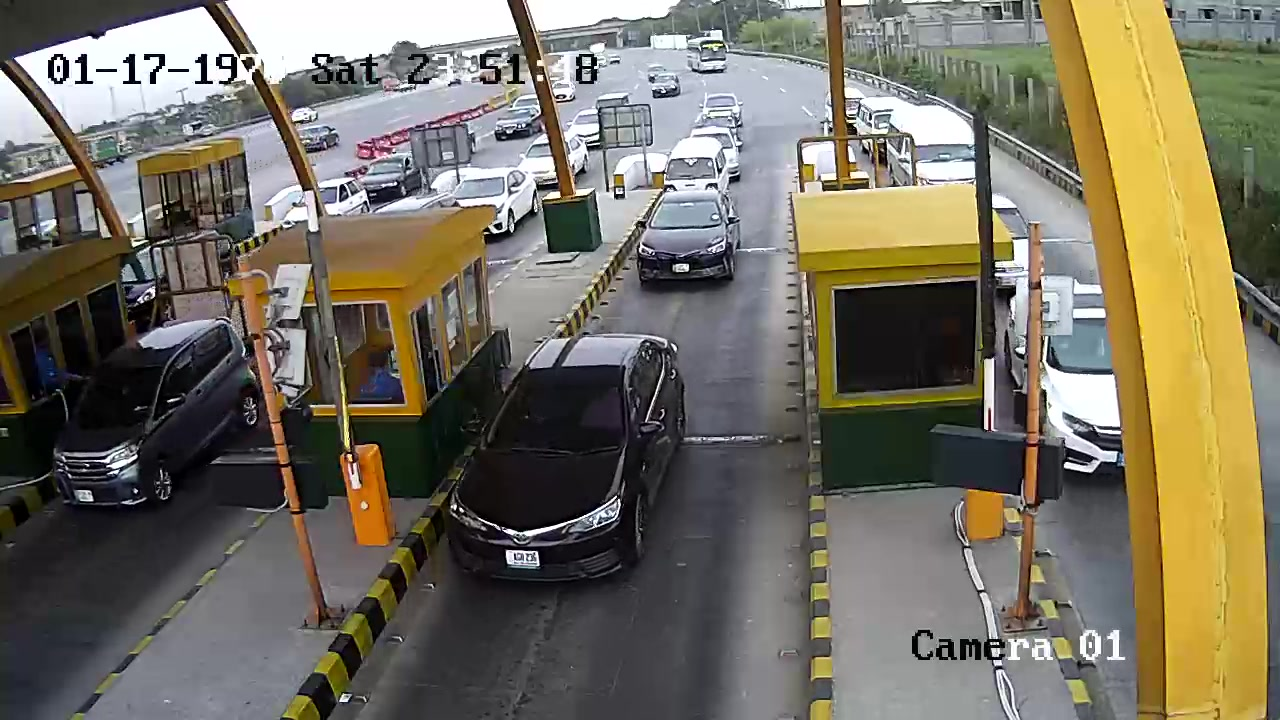F1: (436, 331, 705, 597)
